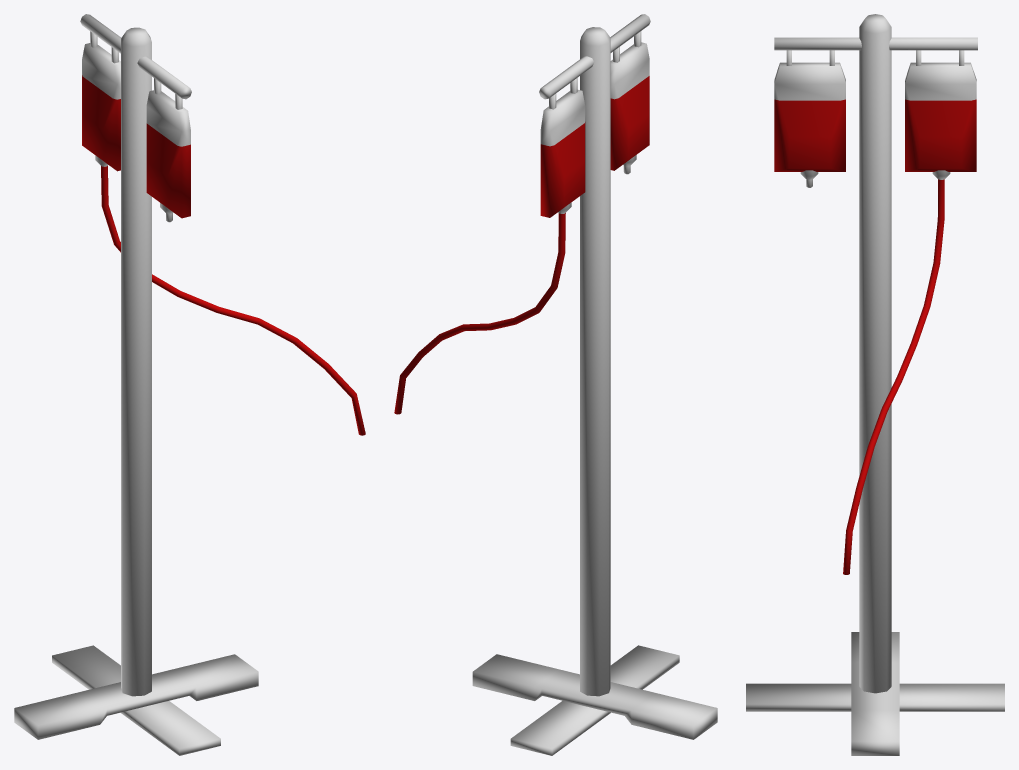
3 renders of one model, left to right at view 1: azimuth 30°, elevation 25°; view 2: azimuth 150°, elevation 25°; view 3: azimuth 270°, elevation 25°, orthographic.
Visible parts, largest first — view 1: Empty_Mesh; view 2: Empty_Mesh; view 3: Empty_Mesh.
Boxes of the visible parts, x1,y1,x2,y2 form: Empty_Mesh: (14, 14, 365, 755); Empty_Mesh: (394, 14, 717, 755); Empty_Mesh: (746, 14, 1004, 755).
Size of the model in its own units: 7.17 by 14.2 by 4.88.
